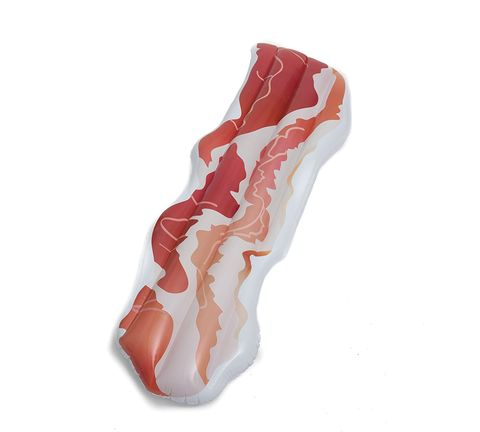bacon: (113, 20, 353, 409)
